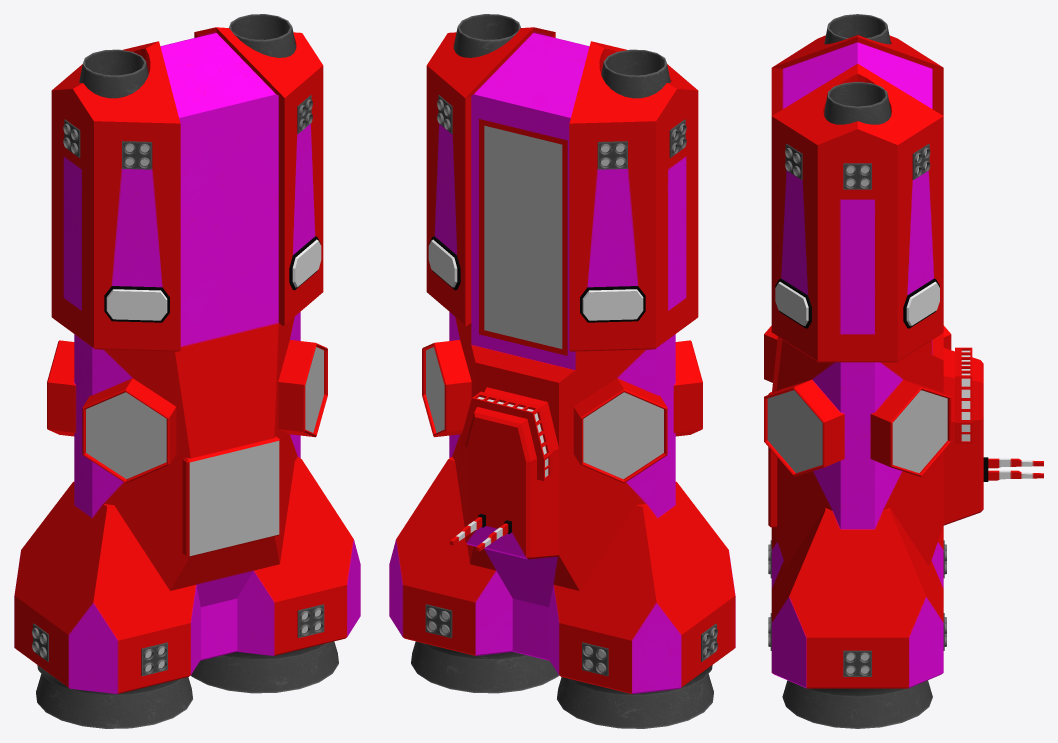
The model's file is Wicher8_all.fbx.
3 views of the same model, side by side, from view 1: azimuth 30°, elevation 25°; view 2: azimuth 150°, elevation 25°; view 3: azimuth 270°, elevation 25° (orthographic). The views are drawn at different scales.
Visible parts, largest first — view 1: Hull_LOD0, Engines_LOD0; view 2: Hull_LOD0, Engines_LOD0; view 3: Hull_LOD0, Engines_LOD0, BridgeWindows_LOD0.
Part boxes in pixels (box(x1,y1,x2,y2)): Hull_LOD0: box(14, 27, 360, 694); Engines_LOD0: box(32, 14, 338, 728); Hull_LOD0: box(389, 27, 735, 694); Engines_LOD0: box(411, 14, 717, 728); Hull_LOD0: box(764, 35, 1043, 688); Engines_LOD0: box(768, 14, 946, 728); BridgeWindows_LOD0: box(961, 350, 970, 441).
Size of the model in its own units: 286 by 590 by 244.
